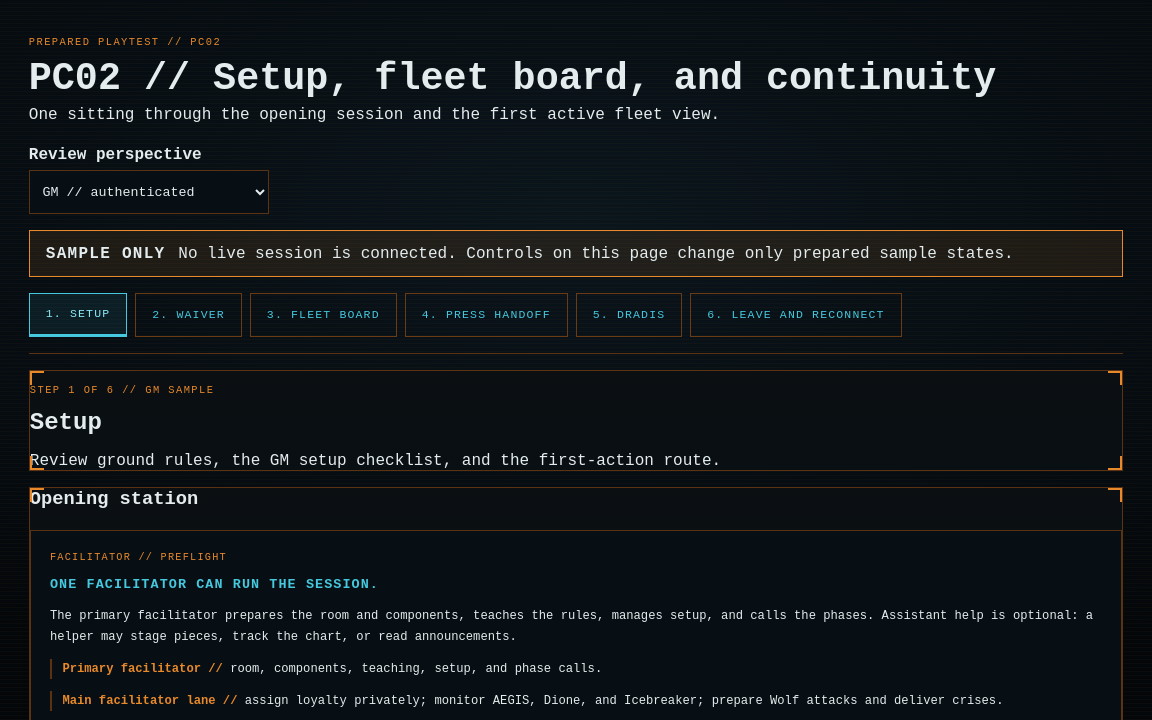
keeps sample leave and reconnect controls local to the review scene
This screenshot has width=1152, height=720.
Click the button "6. Leave and reconnect" at x=796, y=315, box [690,293,902,337]
(page scrolled)
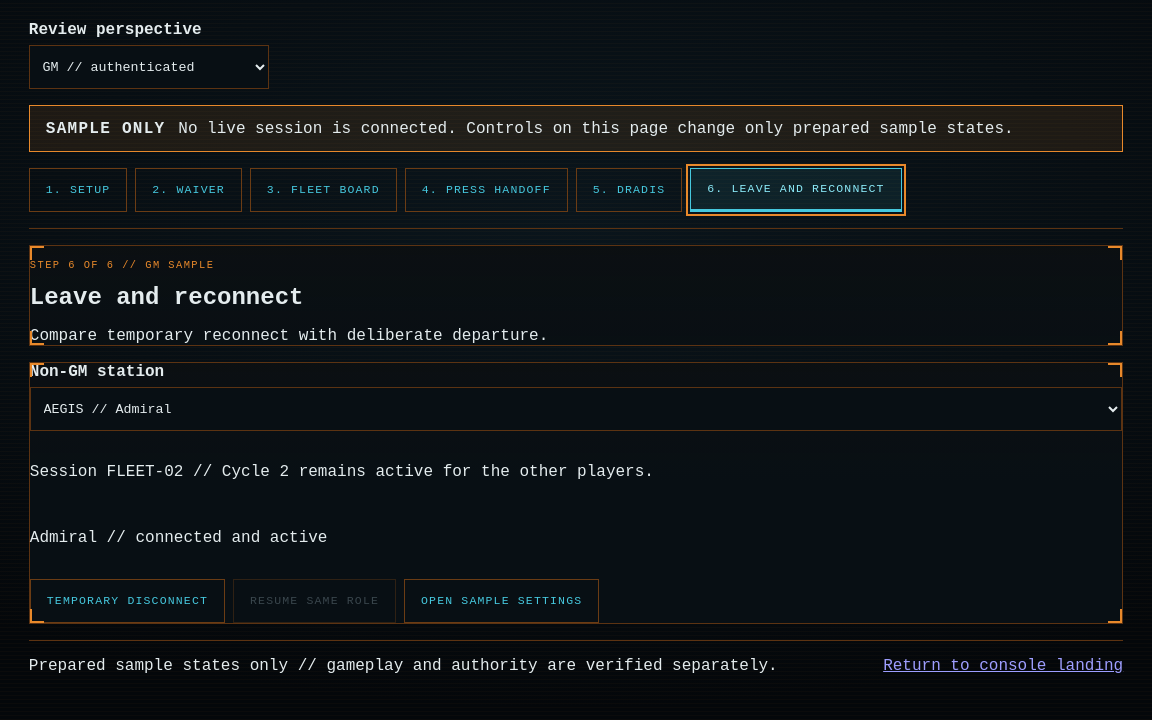
Now the button "Open sample settings" is shown
Click the button "Open sample settings" at x=502, y=601, box [404,579,599,623]
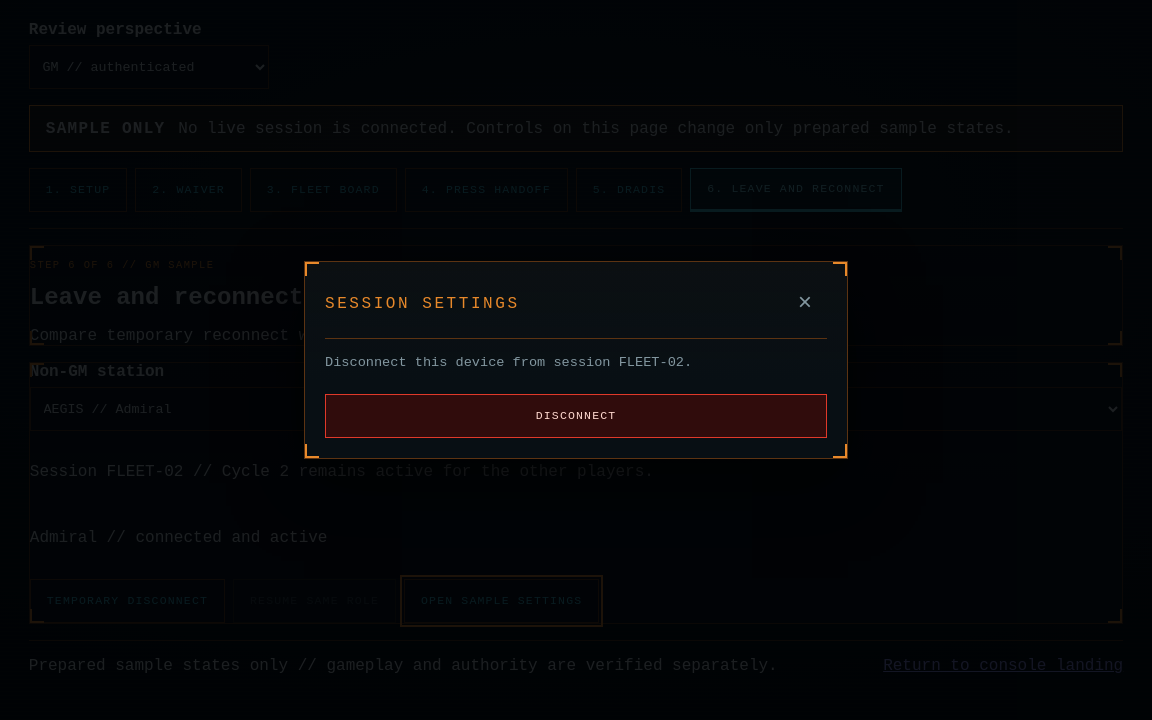
Now the button "Temporary disconnect" is shown, box [30,579,225,623]
Now the dialog "Session settings" shows "Disconnect", box [325,394,827,438]
